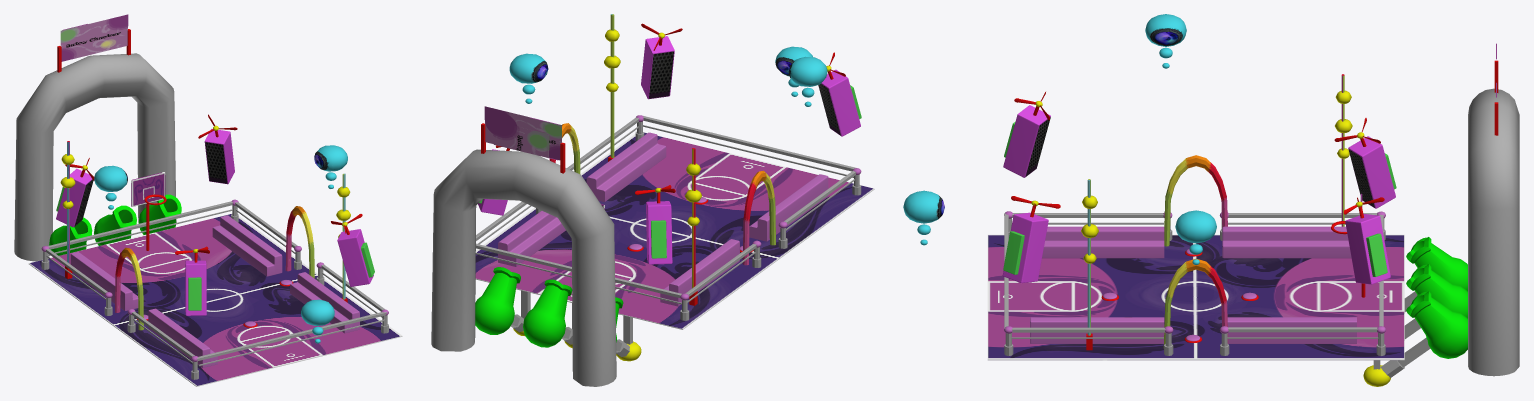
The model's file is escenario2.fbx.
3 renders of one model, left to right at view 1: azimuth 30°, elevation 25°; view 2: azimuth 150°, elevation 25°; view 3: azimuth 270°, elevation 25°, orthographic. The views are drawn at different scales.
Parts seen in each view (by area): view 1: Piso, Estructura_rocola, cubosonido (×4), Varillas_grandes, c (×3), bolota (×3), Letrero, silla2, slla1, peques, silla3, silla4 (+4 smaller); view 2: Piso, Estructura_rocola, cubosonido (×4), c (×2), Varillas_grandes, Letrero, slla1, bolota (×3), silla2, silla3, silla4, peques (+6 smaller); view 3: Piso, Estructura_rocola, cubosonido (×4), c (×3), silla4, Varillas_grandes, silla3, bolota (×3), slla1, silla2, Arco1, cubeneon (×2) (+3 smaller).
Part boxes in pixels (x1,y1,x2,y2): Piso: [28, 213, 402, 386]; Estructura_rocola: [14, 53, 176, 261]; cubosonido (×4): [56, 129, 373, 315]; Varillas_grandes: [46, 201, 387, 361]; c (×3): [49, 194, 181, 255]; bolota (×3): [94, 145, 347, 325]; Letrero: [60, 14, 128, 61]; silla2: [212, 215, 282, 276]; slla1: [290, 272, 359, 333]; peques: [46, 209, 385, 366]; silla3: [148, 308, 217, 367]; silla4: [70, 252, 138, 310]; Piso: [475, 132, 874, 329]; Estructura_rocola: [431, 149, 616, 386]; cubosonido (×4): [478, 36, 860, 264]; c (×2): [475, 267, 572, 347]; Varillas_grandes: [476, 116, 855, 298]; Letrero: [484, 106, 561, 160]; slla1: [586, 132, 666, 201]; bolota (×3): [509, 46, 827, 86]; silla2: [498, 211, 565, 266]; silla3: [749, 174, 828, 241]; silla4: [660, 239, 739, 306]; peques: [475, 125, 854, 304]; Piso: [987, 234, 1404, 360]; Estructura_rocola: [1468, 88, 1519, 376]; cubosonido (×4): [1002, 105, 1395, 284]; c (×3): [1406, 237, 1467, 358]; silla4: [1222, 226, 1351, 258]; Varillas_grandes: [1004, 213, 1383, 332]; silla3: [1042, 226, 1164, 258]; bolota (×3): [903, 14, 1216, 243]; slla1: [1030, 317, 1164, 343]; silla2: [1227, 317, 1356, 343]; Arco1: [1164, 155, 1227, 246]; cubeneon (×2): [1003, 231, 1387, 276].
Size of the model in its own units: 105 by 90.86 by 172.
Materials: 13 (6 with a texture image).
